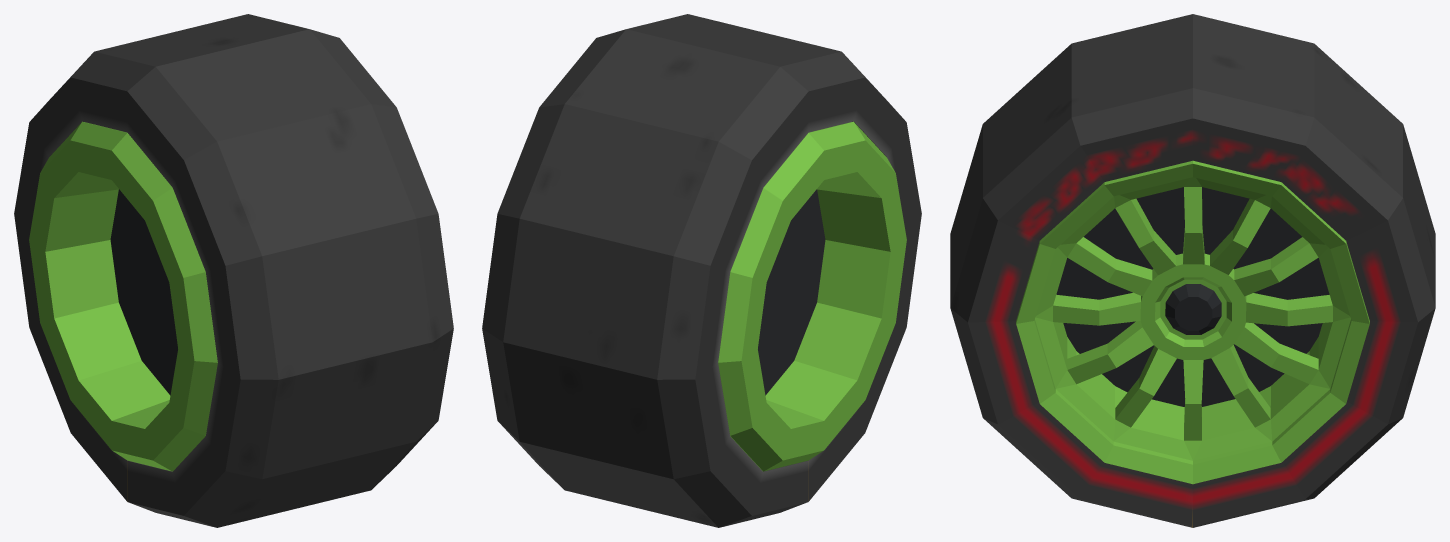
The model's file is SM_Veh_Wheel_Wide_01.fbx.
The picture shows the model from 3 angles, left to right: view 1: azimuth 30°, elevation 25°; view 2: azimuth 150°, elevation 25°; view 3: azimuth 270°, elevation 25°; orthographic projection.
Parts seen in each view (by area): view 1: SM_Veh_Wheel_Wide_01; view 2: SM_Veh_Wheel_Wide_01; view 3: SM_Veh_Wheel_Wide_01.
Part boxes in pixels (box(x1,y1,x2,y2)): SM_Veh_Wheel_Wide_01: box(14, 14, 453, 527); SM_Veh_Wheel_Wide_01: box(482, 14, 921, 527); SM_Veh_Wheel_Wide_01: box(950, 14, 1435, 527).
Bounding box in the file's own units: 40.16 × 74.08 × 74.08.
